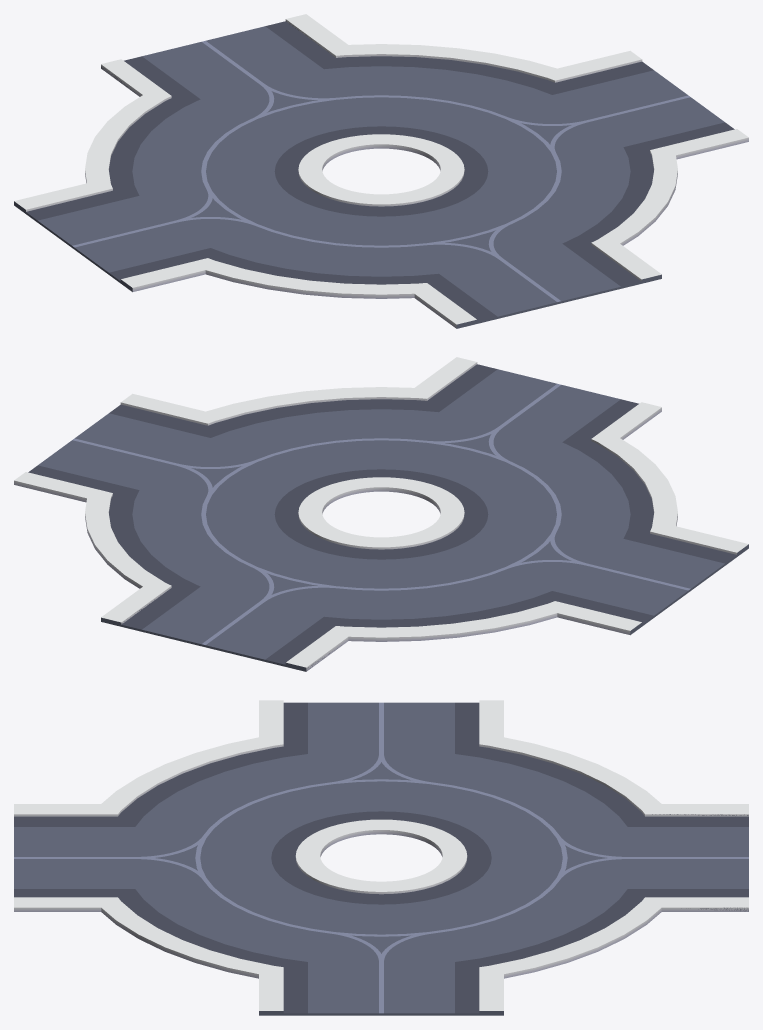
The model's file is kenney-city-roads-road.glb.
3 views of the same model, one above another, from view 1: azimuth 30°, elevation 25°; view 2: azimuth 150°, elevation 25°; view 3: azimuth 270°, elevation 25° (orthographic). The views are drawn at different scales.
Parts seen in each view (by area): view 1: road-roundabout; view 2: road-roundabout; view 3: road-roundabout.
Part boxes in pixels (box(x1,y1,x2,y2)): road-roundabout: box(14, 14, 748, 328); road-roundabout: box(14, 357, 748, 671); road-roundabout: box(14, 700, 748, 1015).
Size of the model in its own units: 3 by 0.0201 by 3.
Materials: 1 (1 with a texture image).
